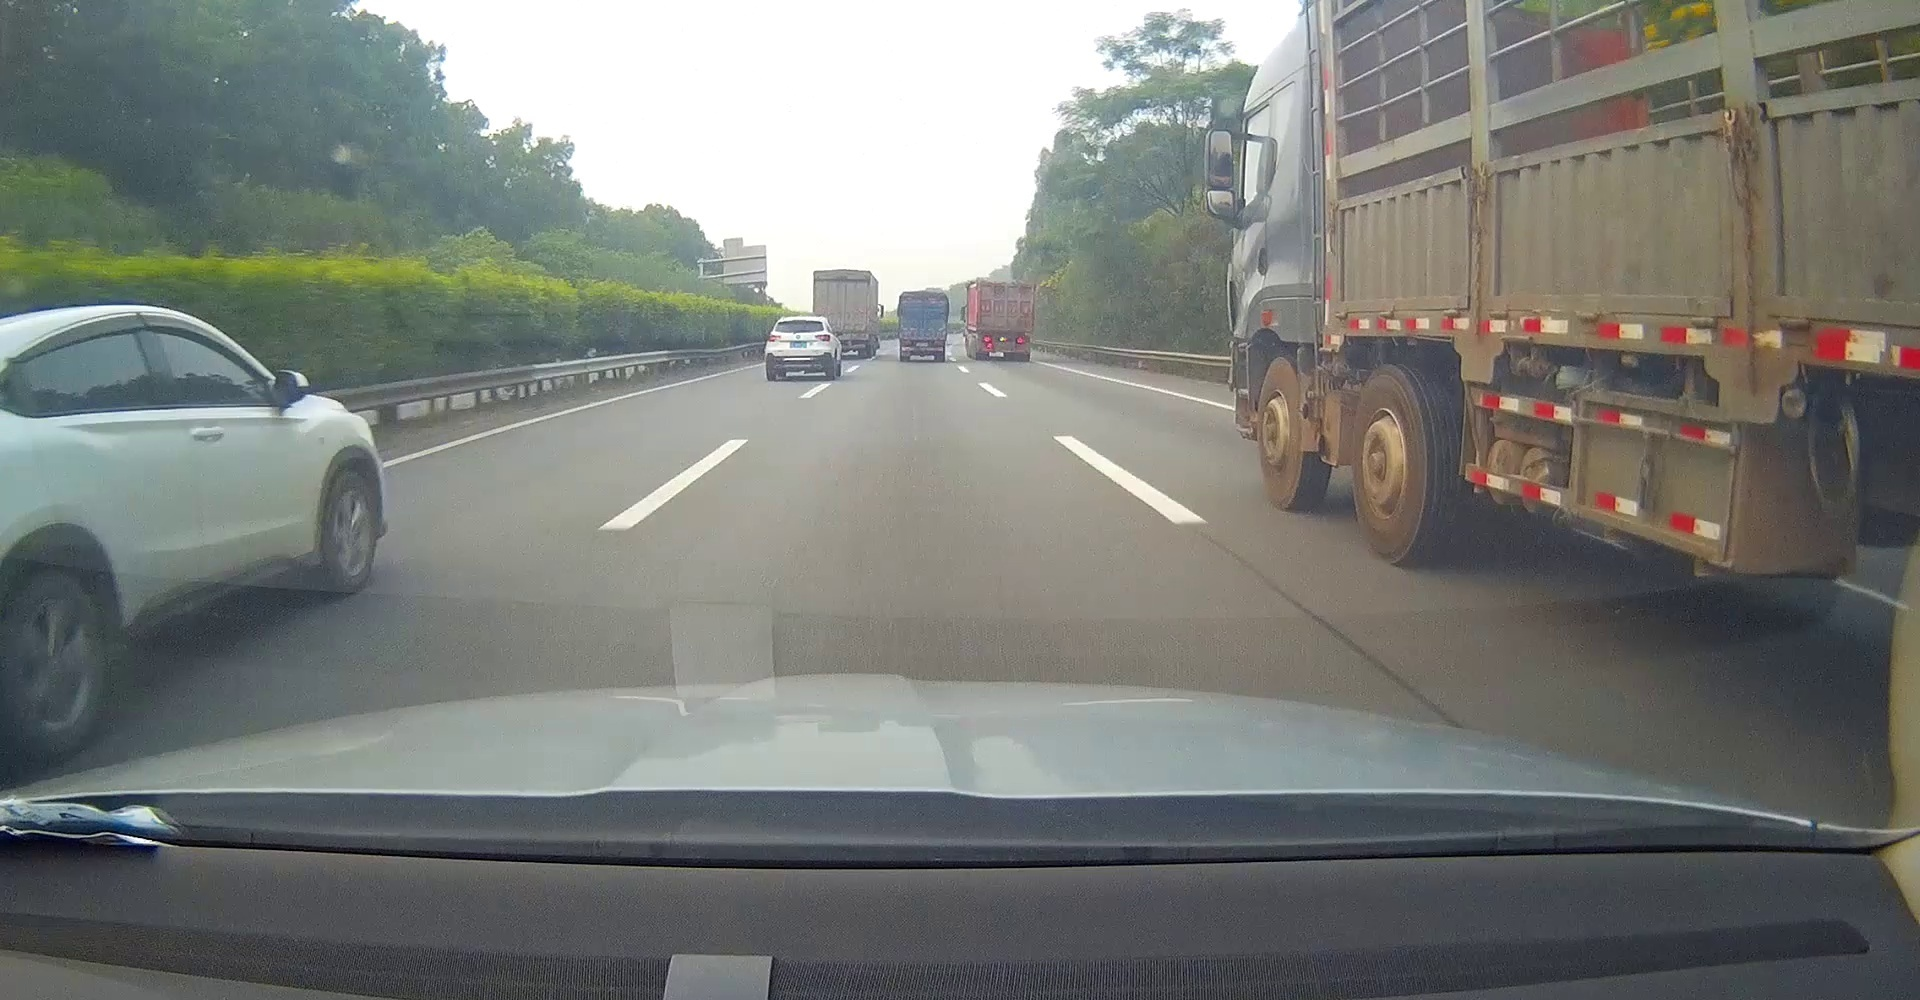L_light: (767, 335, 781, 341), (982, 338, 992, 341), (903, 341, 912, 345)
R_light: (815, 334, 830, 341), (935, 341, 943, 345), (1016, 338, 1025, 341)
T_light: (792, 320, 806, 324), (918, 297, 928, 301), (1001, 286, 1010, 289)
day-brake: (975, 280, 1035, 360)
day-no: (763, 316, 832, 379), (898, 291, 949, 362)
